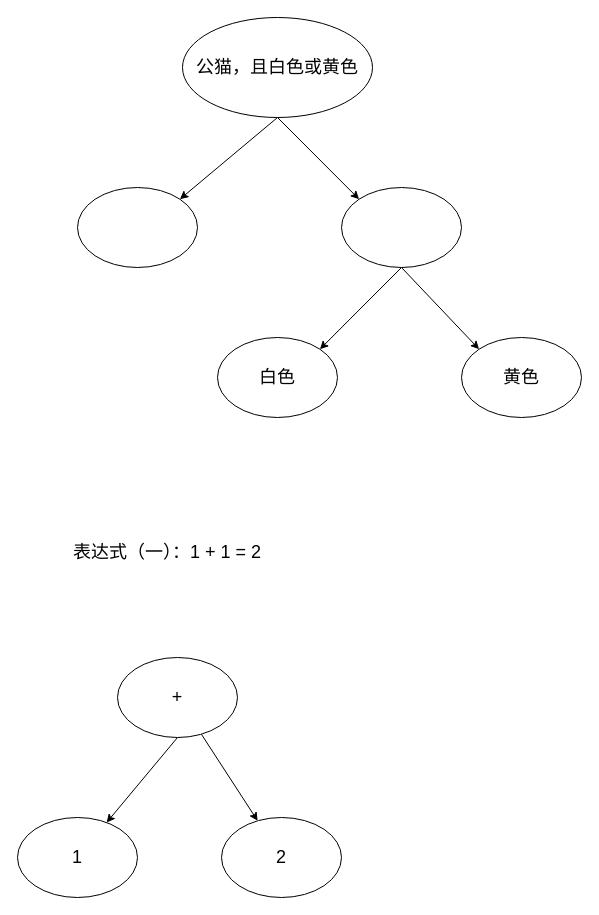
This 599x915 diagram has some shape labels left out. The shapes that lost their labels are listed below. From the top down, each one's box as (x1, y1, x2, y2) in pixels, then its label:
(76, 186, 198, 268): 公猫
(340, 186, 462, 268): 白色或黄色
